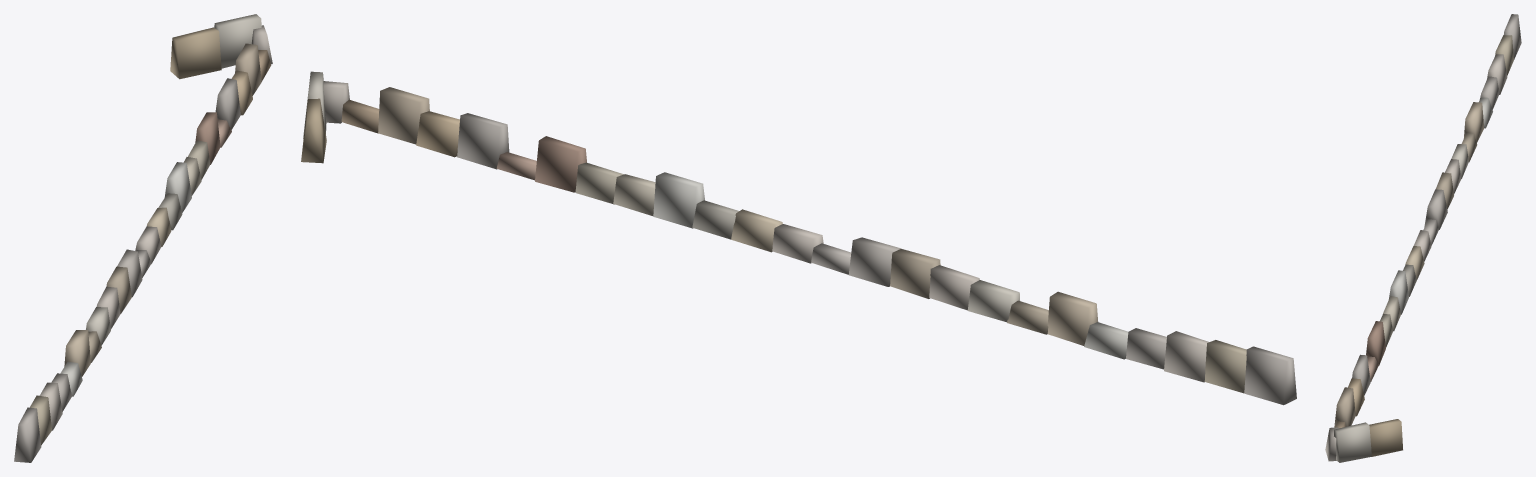
File: farm_-19_-29_far.glb
3 views of the same model, side by side, from view 1: azimuth 90°, elevation 25°; view 2: azimuth 150°, elevation 25°; view 3: azimuth 270°, elevation 25° (orthographic). The views are drawn at different scales.
Visible parts, largest first — view 1: geometry_0; view 2: geometry_0; view 3: geometry_0.
Boxes of the visible parts, bbox=[...] form: geometry_0: bbox=[14, 14, 272, 462]; geometry_0: bbox=[301, 71, 1296, 405]; geometry_0: bbox=[1325, 14, 1521, 462].
Bounding box in the file's own units: 38.8 × 4.16 × 8.78.
